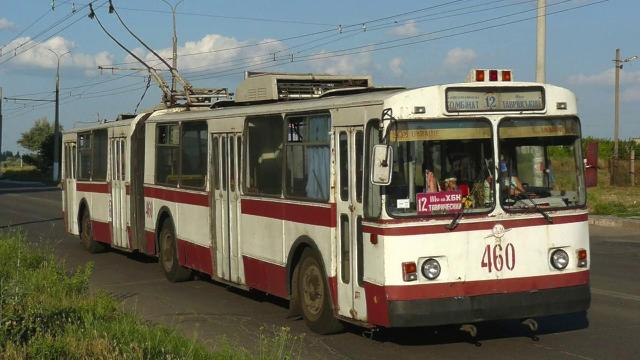bus: (55, 65, 598, 360)
